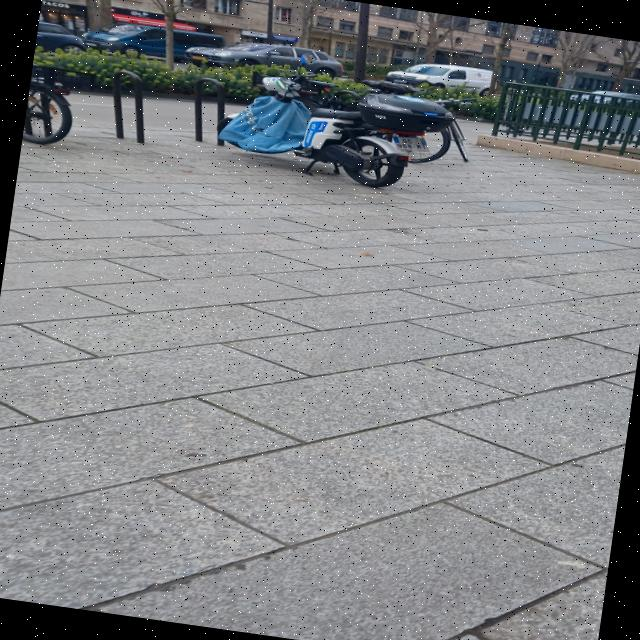Autre: (389, 133, 433, 153)
